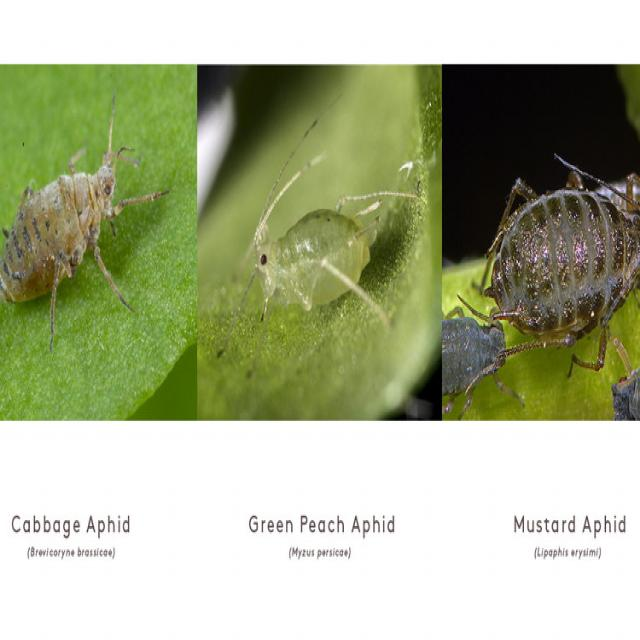Aphid-Grown-: (472, 149, 638, 372), (0, 132, 163, 344), (239, 144, 412, 338)
